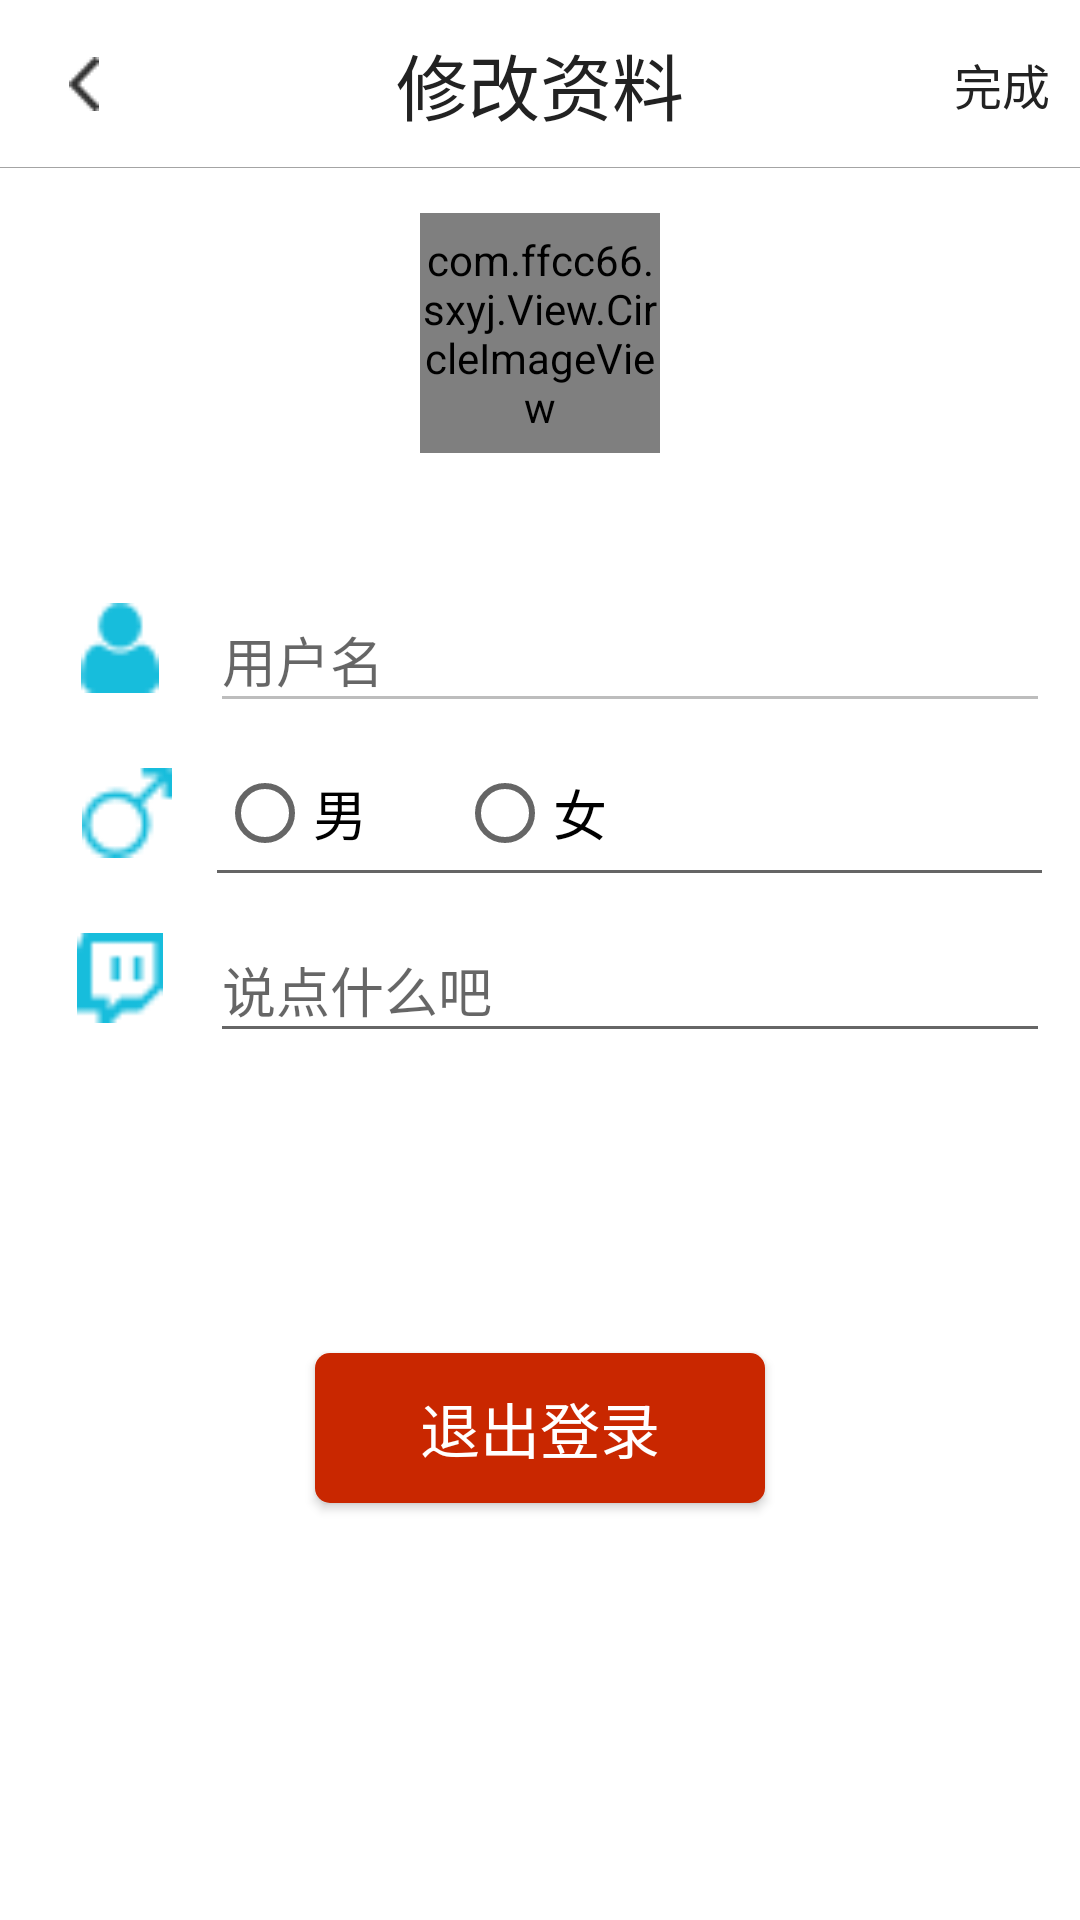

Icon bounding boxes for this 1080*1920 phone screenshot, format (x1, y1, x2, y2):
editinformation sex: (82, 768, 172, 858)
editinformation username: (81, 603, 159, 693)
